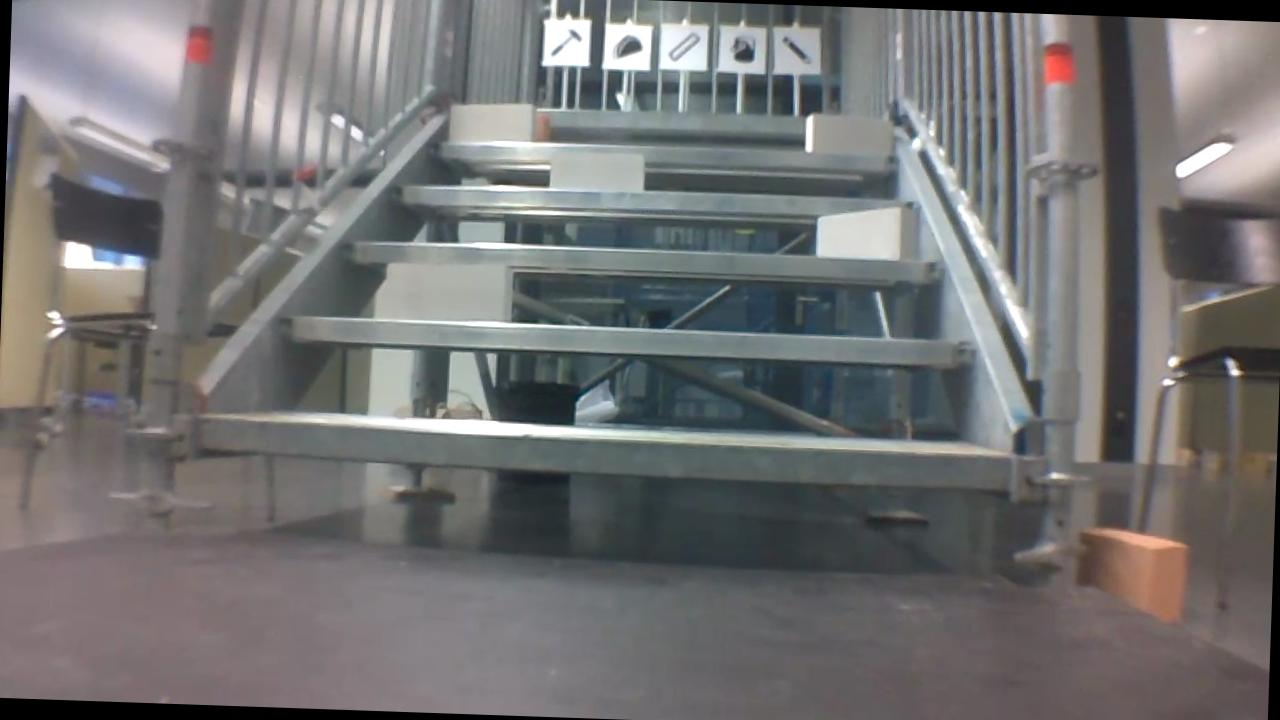brick: (386, 263, 512, 322), (818, 203, 918, 258), (548, 150, 644, 189), (450, 101, 533, 141), (806, 114, 890, 153), (536, 115, 550, 139)
bucket: (723, 30, 759, 67)
edge: (195, 416, 1006, 487), (277, 316, 972, 365), (342, 238, 944, 282), (388, 183, 921, 220), (427, 137, 897, 170), (440, 101, 895, 134)
hammer: (545, 26, 583, 60)
pencil: (776, 32, 817, 66)
ruler: (660, 24, 704, 65)
steps: (183, 89, 1027, 497)
taco: (609, 28, 647, 62)
